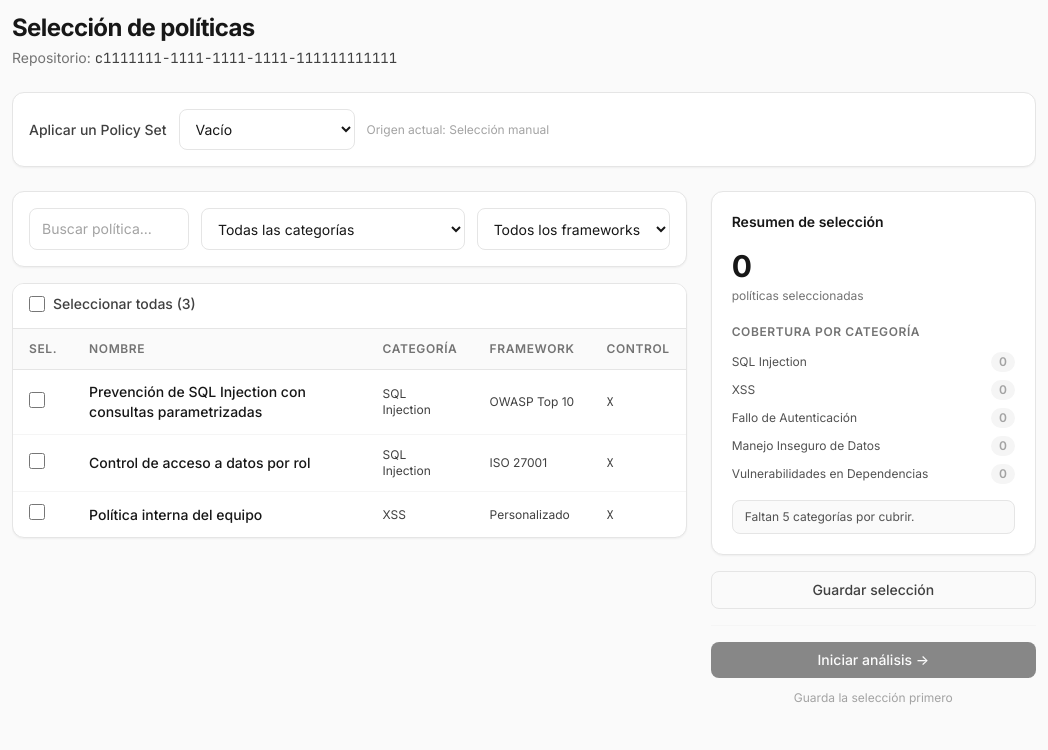
Policy Set is actually usable from the analysis flow › the Policy Set can also be applied directly from the selection screen, without going back to the Dashboard
Select "Perfil PDG ICESI (2)" in the dropdown named "elegir un policy set para aplicar" at (267, 130), box [179,109,355,150]
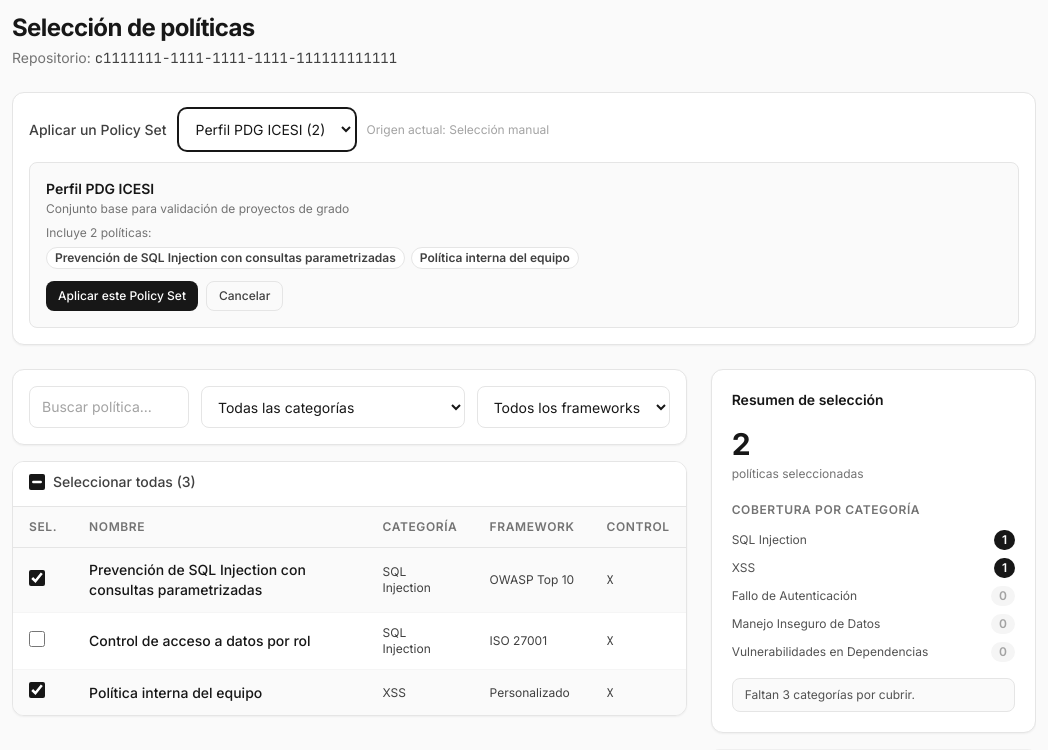
Result: the text "Incluye 2 políticas:" is shown at [46,225,152,240]
Result: the checkbox named "Prevención de SQL Injection con consultas parametrizadas" is checked at [29,570,45,586]
Click the button "Aplicar este Policy Set" at (122, 296), box [46,281,198,311]
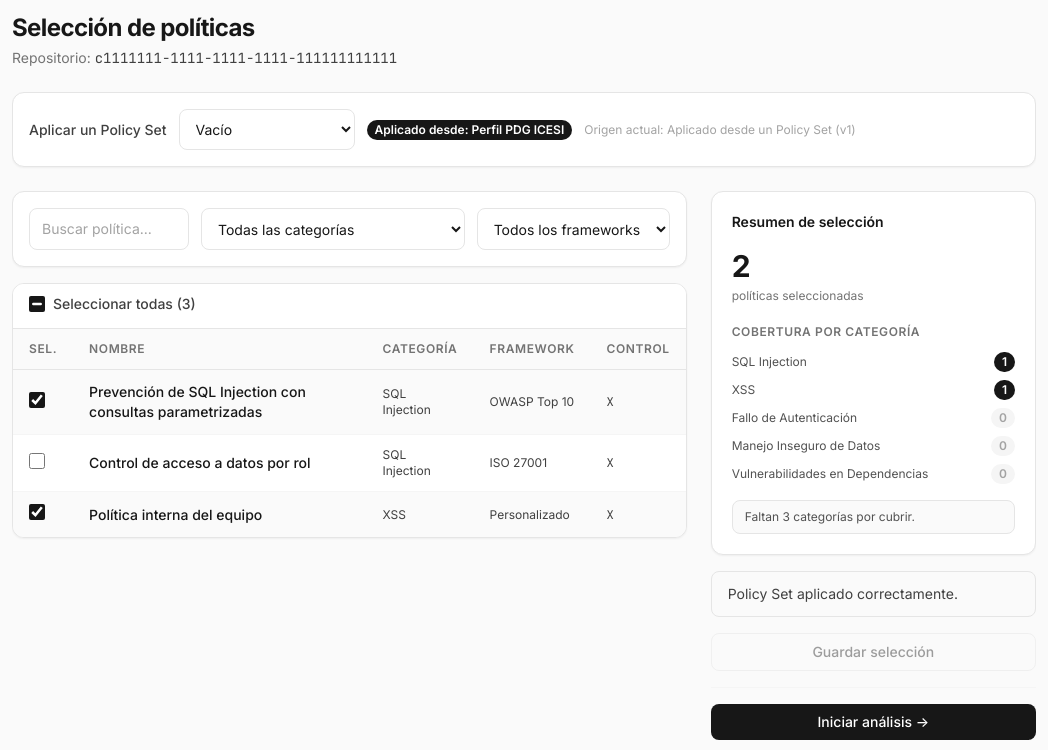
Result: the checkbox named "Prevención de SQL Injection con consultas parametrizadas" is checked at [29,392,45,408]
Result: the text "Aplicado desde: Perfil PDG ICESI" is shown at [367,120,572,140]
